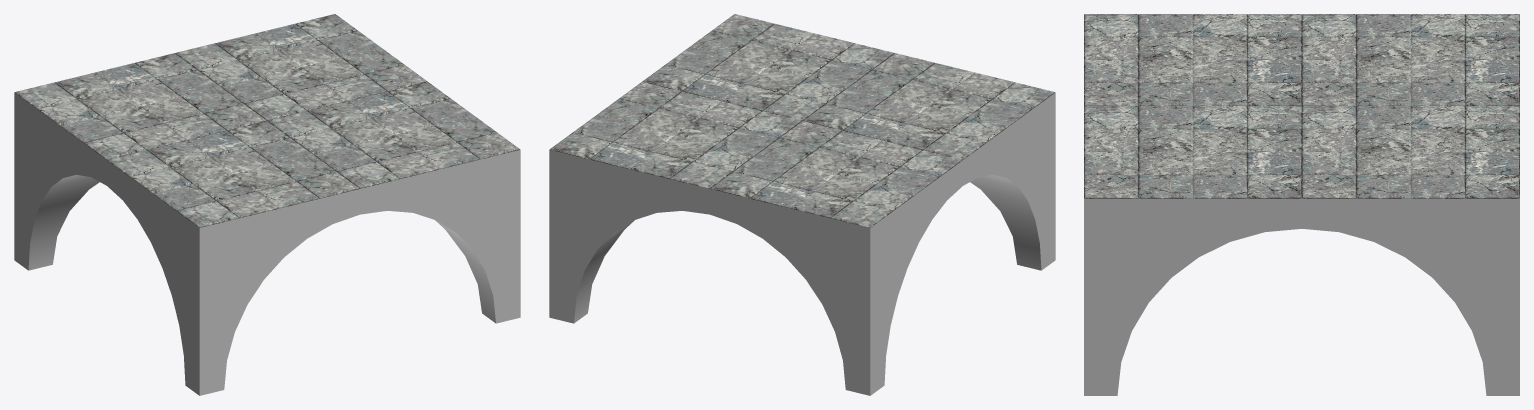
Rendered from Ceil_Rund_4m.gltf.
The picture shows the model from 3 angles, left to right: view 1: azimuth 30°, elevation 25°; view 2: azimuth 150°, elevation 25°; view 3: azimuth 270°, elevation 25°; orthographic projection. The views are drawn at different scales.
Visible parts, largest first — view 1: Ceil_Rund_4m; view 2: Ceil_Rund_4m; view 3: Ceil_Rund_4m.
Boxes of the visible parts, <box> form: Ceil_Rund_4m: <box>14,14,520,395</box>; Ceil_Rund_4m: <box>549,14,1055,395</box>; Ceil_Rund_4m: <box>1084,14,1519,395</box>.
Size of the model in its own units: 8 by 4.03 by 8.
